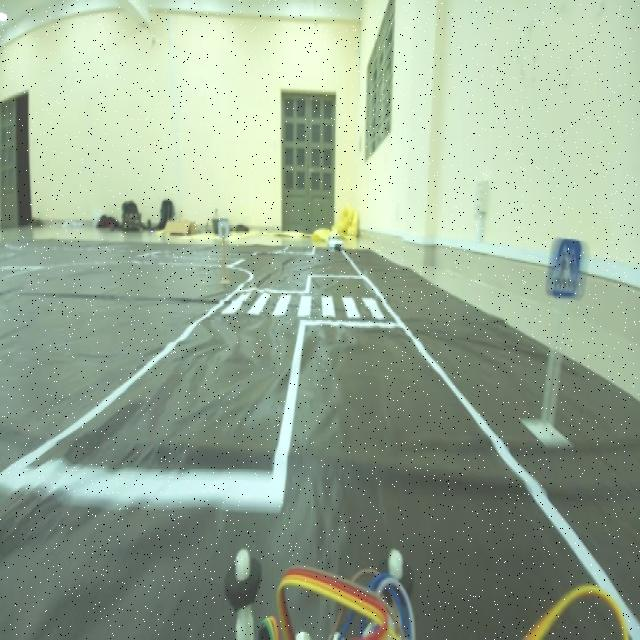crosswalk: (544, 233, 590, 304)
